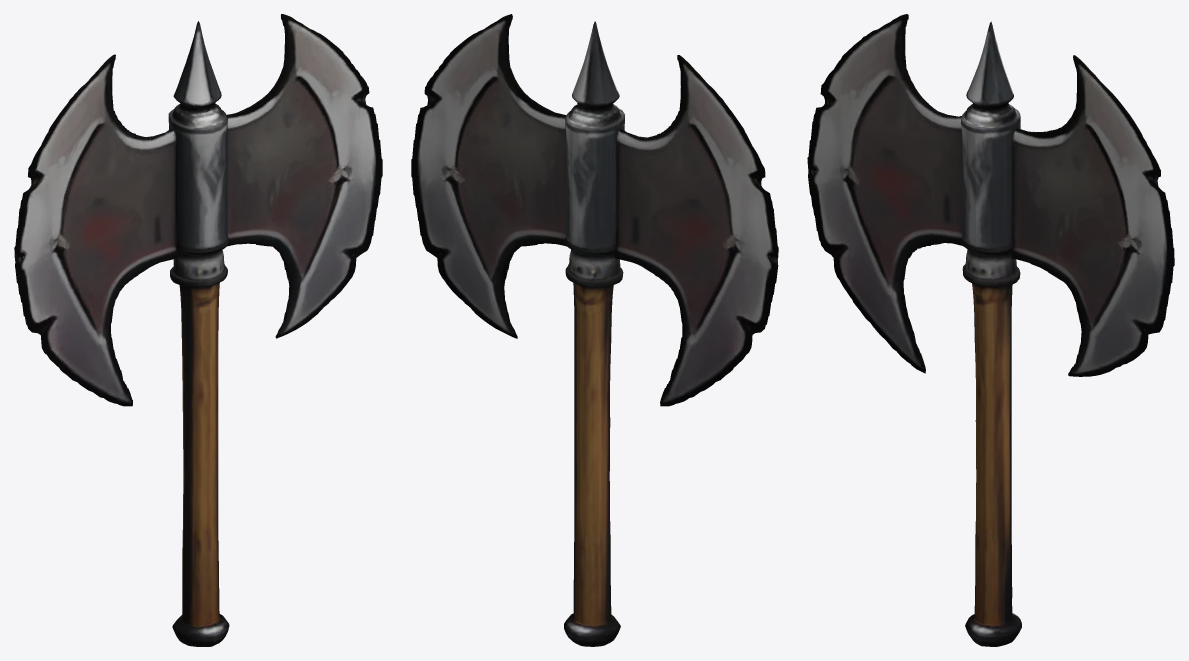
Rendered from jarl_axe.glb.
The picture shows the model from 3 angles, left to right: view 1: azimuth 30°, elevation 25°; view 2: azimuth 150°, elevation 25°; view 3: azimuth 330°, elevation 25°; orthographic projection.
Parts seen in each view (by area): view 1: world; view 2: world; view 3: world.
Boxes of the visible parts, box(x1,y1,x2,y2) form: world: box(14, 14, 382, 646); world: box(411, 14, 778, 646); world: box(807, 14, 1174, 646).
Size of the model in its own units: 0.7774 by 1.25 by 0.1169.
1 material, 1 textured.
